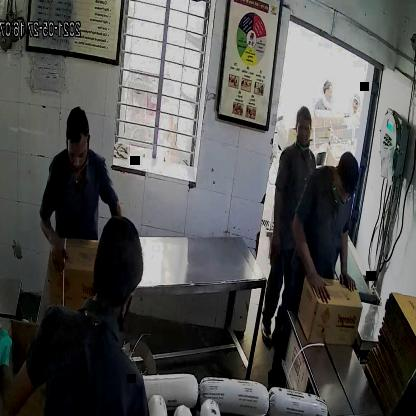no_goggles: (62, 139, 92, 166)
